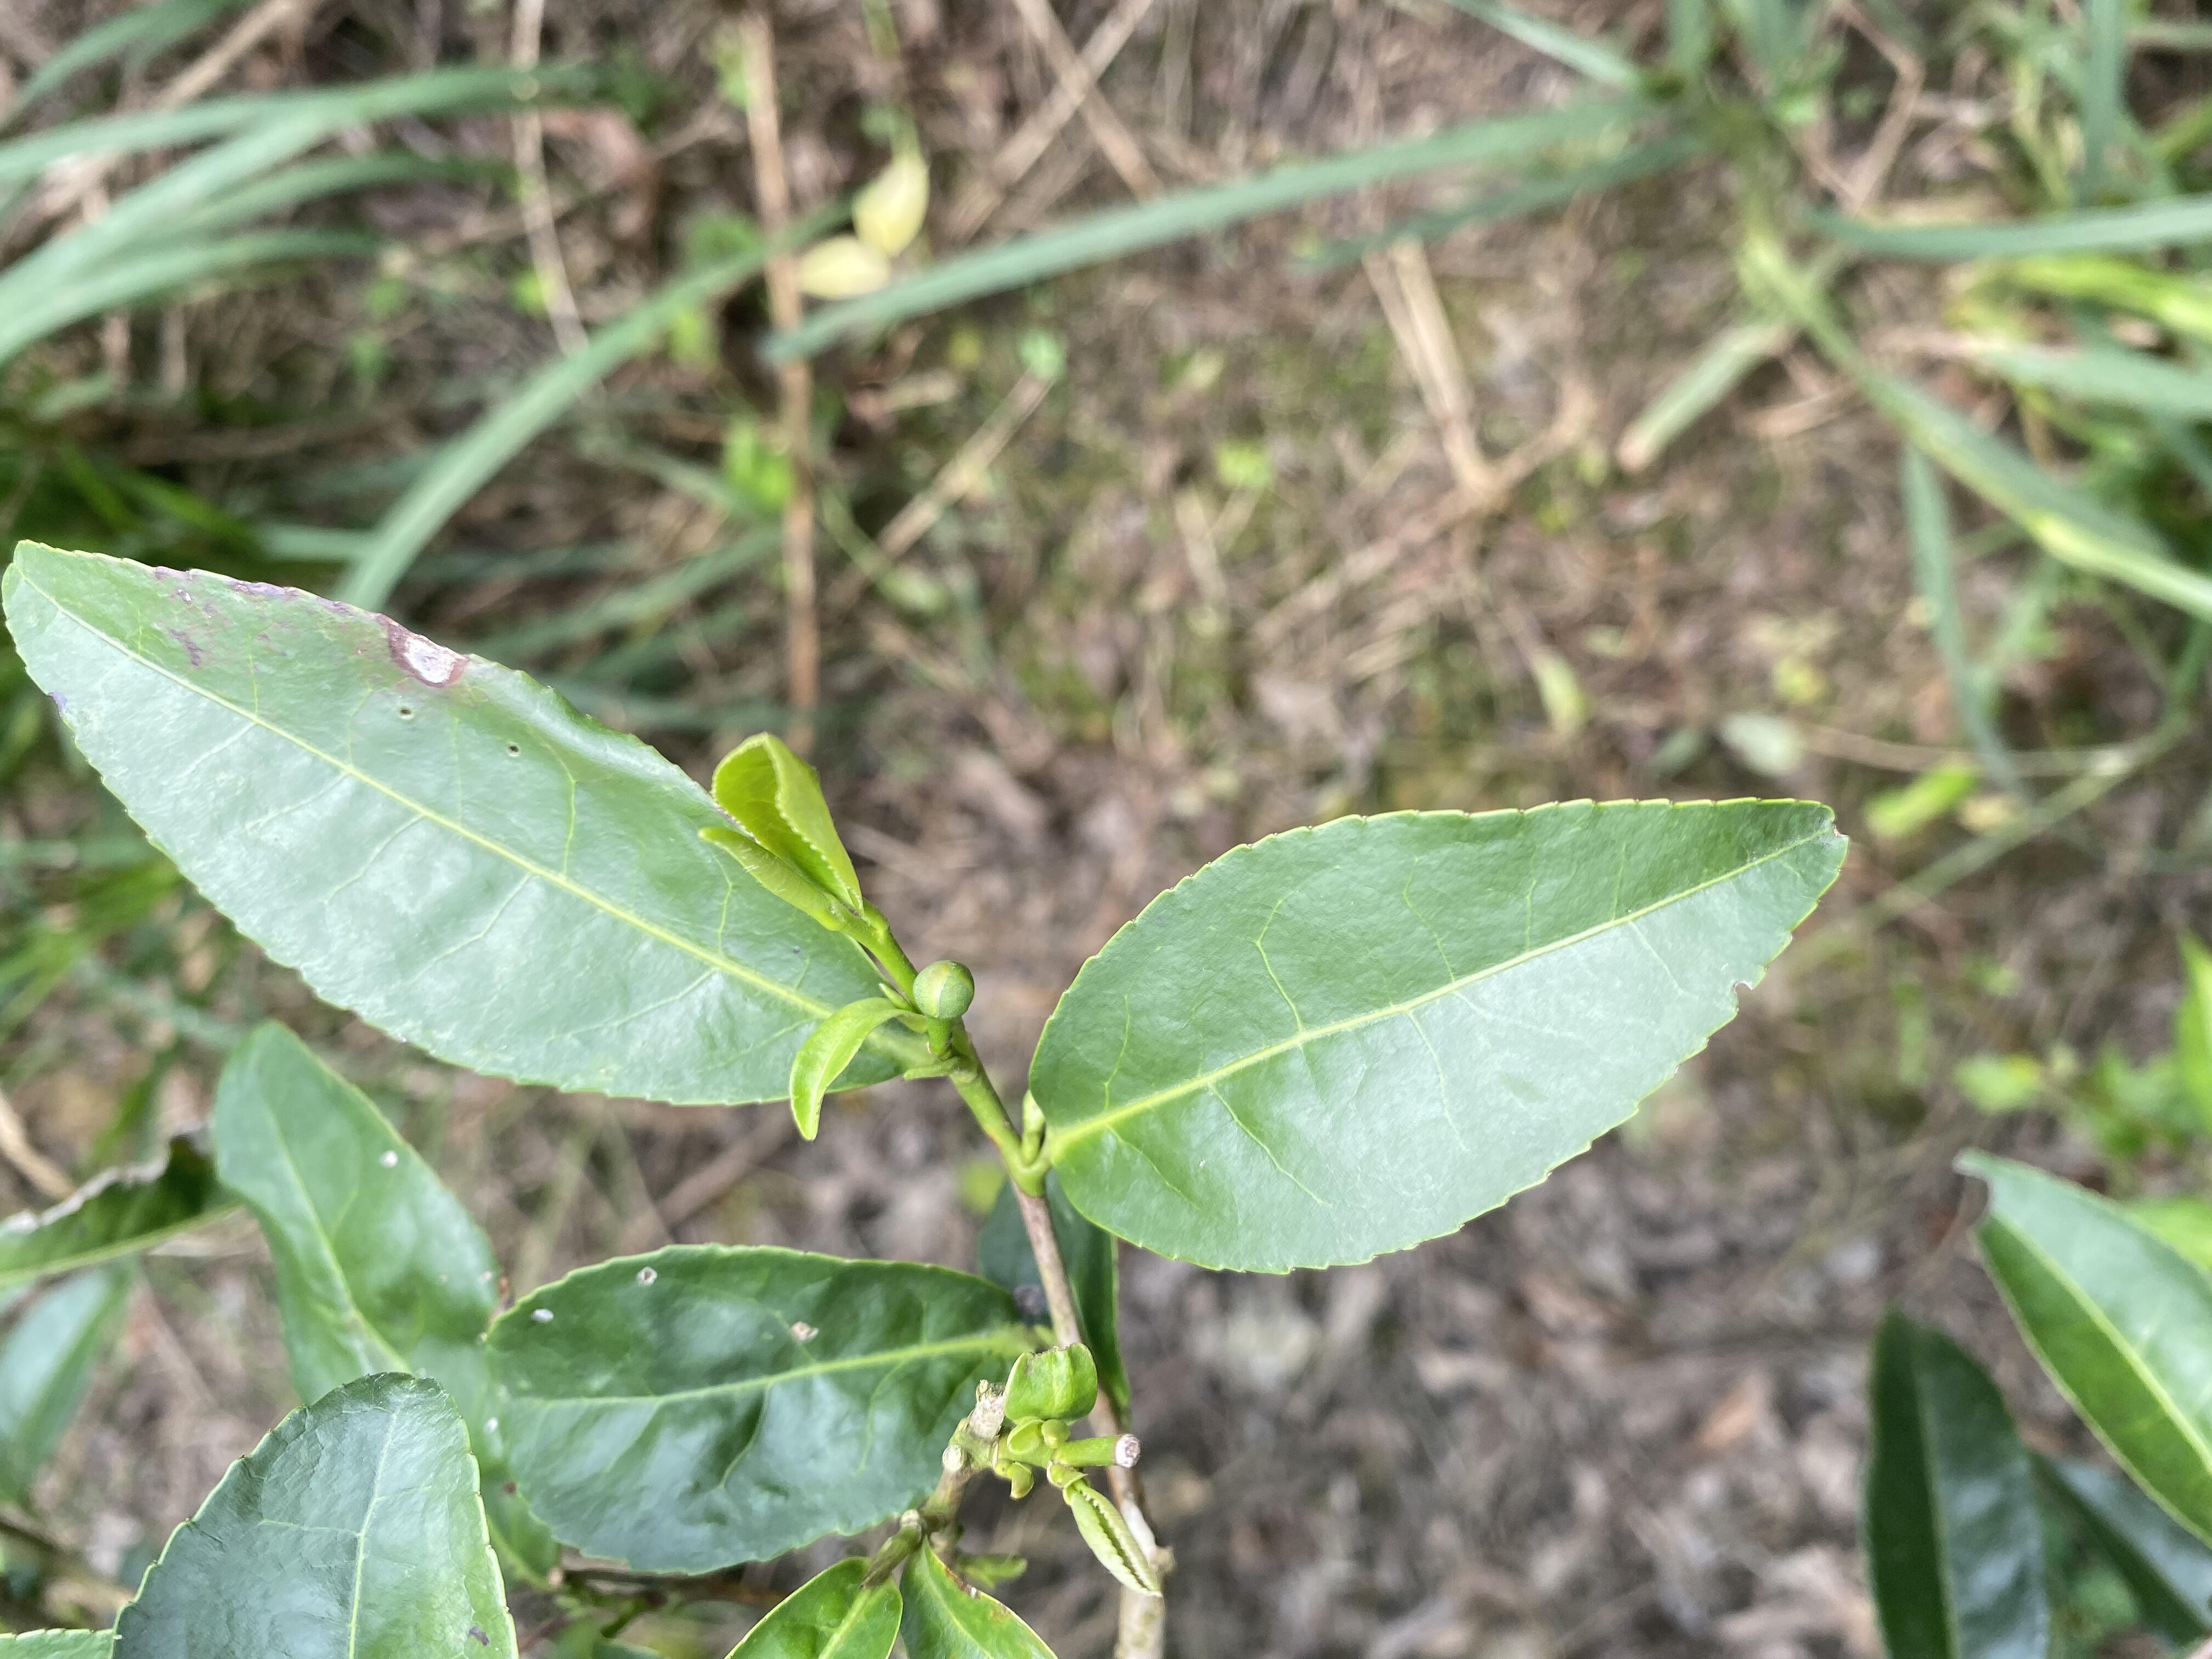chihuo_low: (1952, 1147, 2212, 1544)
healthy: (1028, 798, 1848, 1279)
tanju_high: (2, 540, 923, 1107)
tanju_low: (481, 1239, 1042, 1579), (108, 1375, 524, 1656), (209, 1018, 505, 1392)
